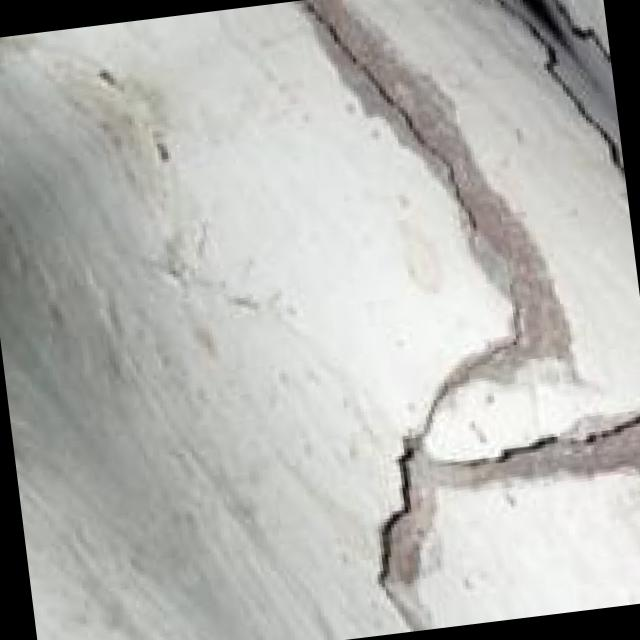crack: (262, 0, 640, 637)
